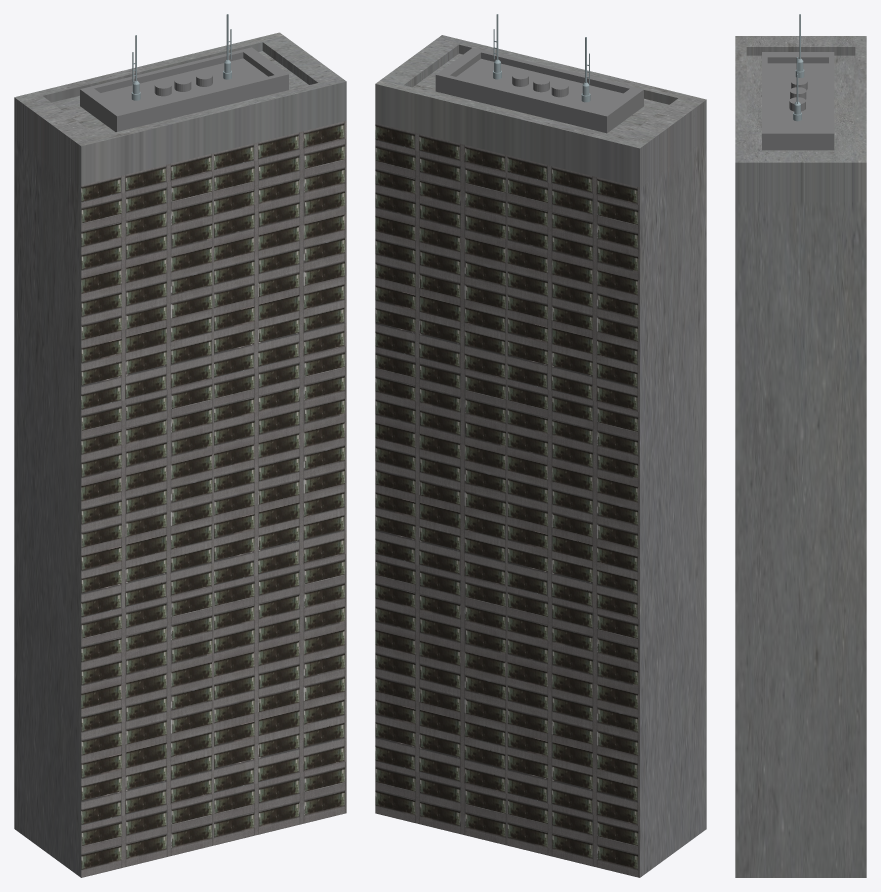
Rendered from ny-office-building.glb.
3 views of the same model, side by side, from view 1: azimuth 30°, elevation 25°; view 2: azimuth 150°, elevation 25°; view 3: azimuth 270°, elevation 25° (orthographic). The views are drawn at different scales.
Parts seen in each view (by area): view 1: 5.015; view 2: 5.015; view 3: 5.015.
Boxes of the visible parts, x1=… form: 5.015: x1=14, y1=14, x2=346, y2=877; 5.015: x1=375, y1=14, x2=706, y2=877; 5.015: x1=735, y1=14, x2=866, y2=877.
Size of the model in its own units: 20.07 by 57.56 by 8.78.
Materials: 3 (2 with a texture image).
